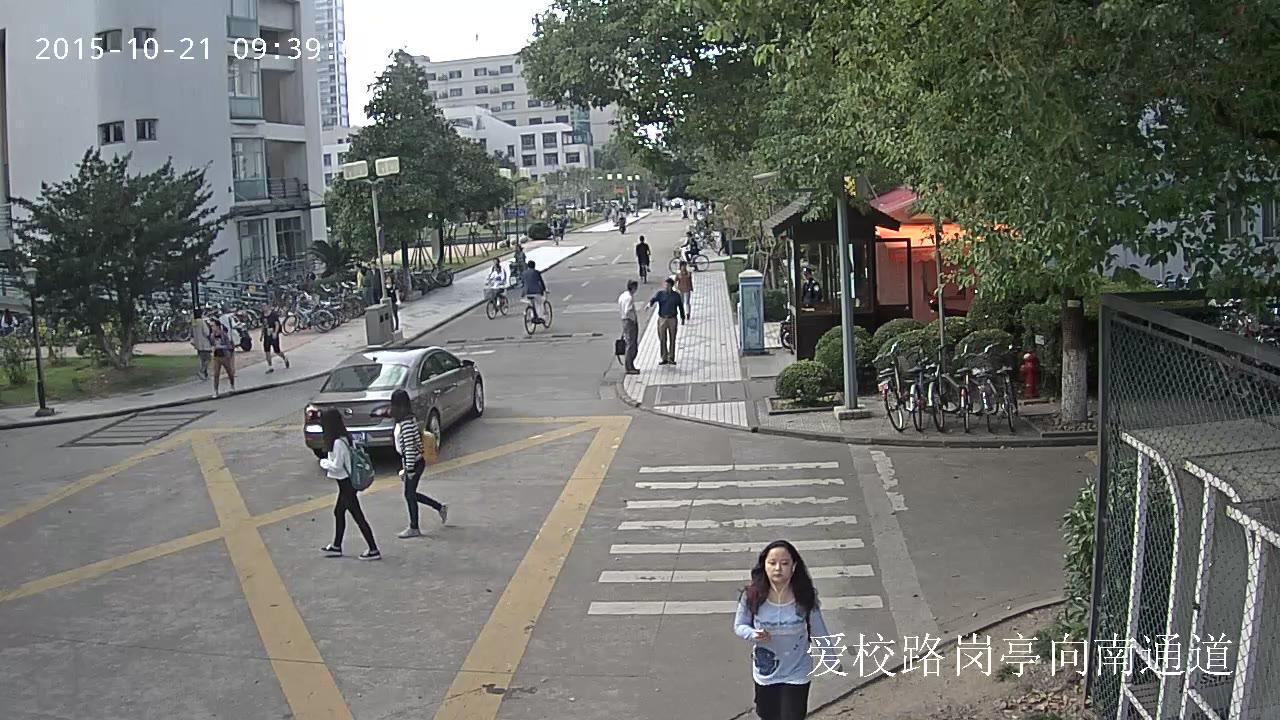person: (733, 540, 843, 720), (317, 408, 382, 559), (389, 389, 447, 538), (644, 277, 685, 362), (612, 279, 641, 374), (519, 259, 552, 335), (258, 300, 289, 373), (208, 319, 236, 398), (668, 230, 708, 273), (217, 304, 240, 375), (520, 260, 546, 321), (484, 256, 508, 319), (191, 310, 211, 380), (674, 263, 693, 324), (485, 257, 507, 305), (383, 273, 400, 332), (797, 267, 821, 308), (635, 234, 652, 282), (509, 243, 527, 287), (678, 230, 699, 262), (635, 235, 651, 276), (367, 261, 382, 304), (512, 244, 526, 282), (552, 218, 559, 244), (618, 213, 626, 233)
